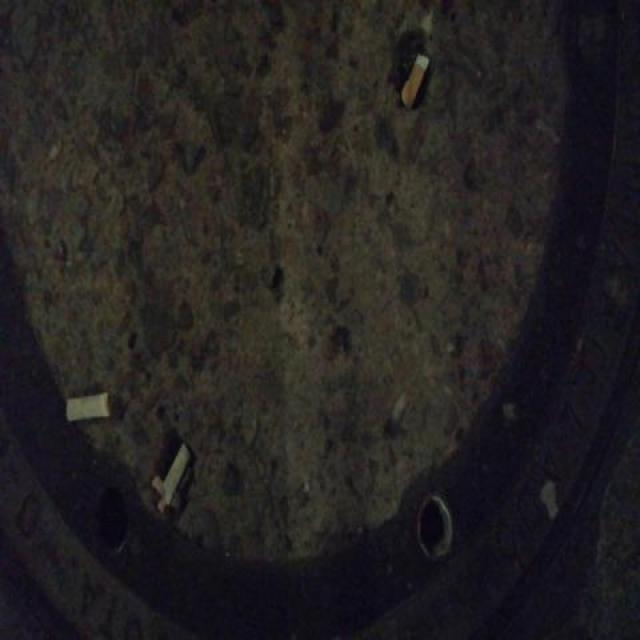non-organic waste: (157, 436, 195, 508), (394, 45, 430, 116), (61, 387, 115, 428)
